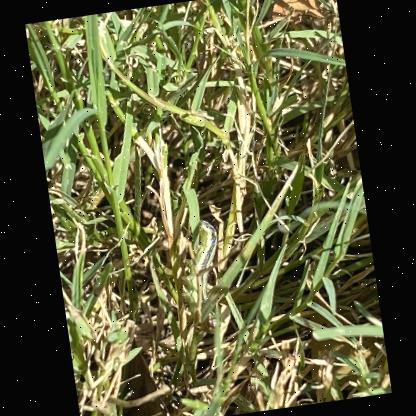Fall Armyworm Larvae: (169, 214, 234, 339)
